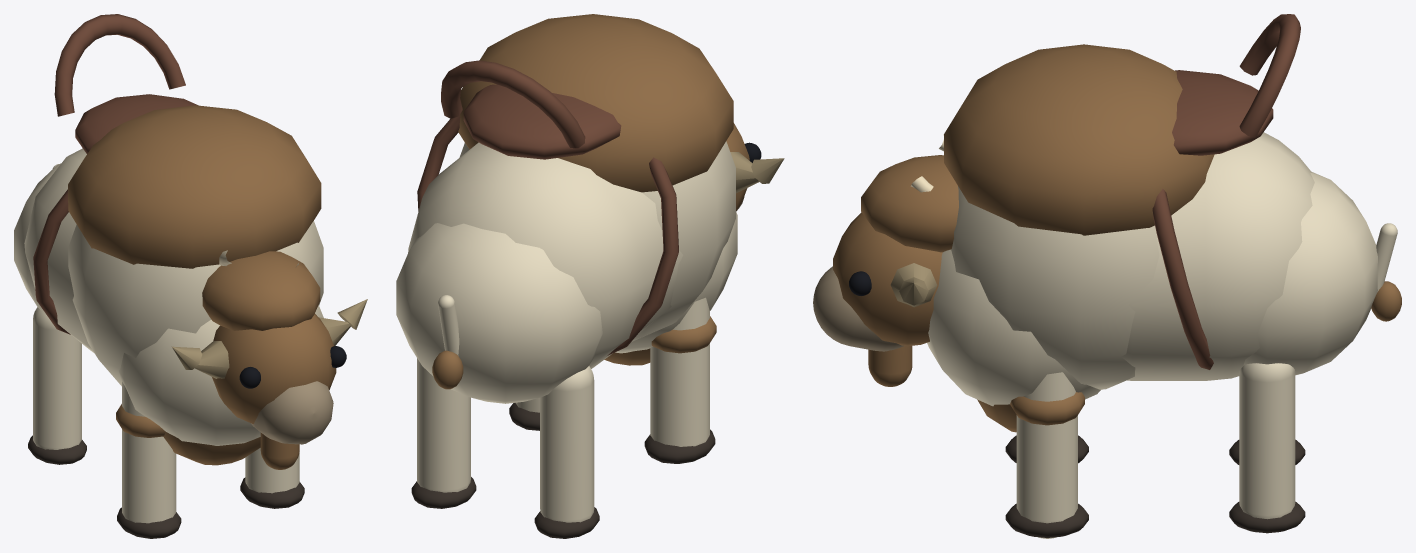
The model's file is bison.glb.
3 views of the same model, side by side, from view 1: azimuth 30°, elevation 25°; view 2: azimuth 150°, elevation 25°; view 3: azimuth 270°, elevation 25° (orthographic). The views are drawn at different scales.
Parts seen in each view (by area): view 1: coat, wool, head, saddle, muzzle, hooves, horns, eyes; view 2: coat, wool, saddle, hooves, horns, tailTuft, tailGeo, head; view 3: coat, wool, head, saddle, hooves, muzzle, horns, tailTuft, tailGeo.
Part boxes in pixels (x1=…): coat: x1=14, y1=148, x2=323, y2=523; wool: x1=68, y1=105, x2=321, y2=465; head: x1=202, y1=251, x2=336, y2=469; saddle: x1=33, y1=14, x2=198, y2=334; muzzle: x1=251, y1=381, x2=333, y2=444; hooves: x1=28, y1=435, x2=304, y2=538; horns: x1=172, y1=299, x2=367, y2=378; eyes: x1=239, y1=346, x2=346, y2=388; coat: x1=396, y1=141, x2=737, y2=522; wool: x1=458, y1=14, x2=733, y2=365; saddle: x1=417, y1=60, x2=678, y2=355; hooves: x1=411, y1=403, x2=715, y2=538; horns: x1=730, y1=152, x2=784, y2=193; tailTuft: x1=432, y1=350, x2=463, y2=389; tailGeo: x1=438, y1=295, x2=459, y2=355; head: x1=726, y1=123, x2=749, y2=210; coat: x1=927, y1=132, x2=1377, y2=538; wool: x1=944, y1=44, x2=1214, y2=432; head: x1=833, y1=155, x2=958, y2=386; saddle: x1=1152, y1=14, x2=1300, y2=369; hooves: x1=1005, y1=435, x2=1305, y2=537; muzzle: x1=813, y1=266, x2=903, y2=351; horns: x1=890, y1=263, x2=937, y2=307; tailTuft: x1=1371, y1=281, x2=1401, y2=321; tailGeo: x1=1376, y1=223, x2=1397, y2=291.
Size of the model in its own units: 2.11 by 3.62 by 4.02.
